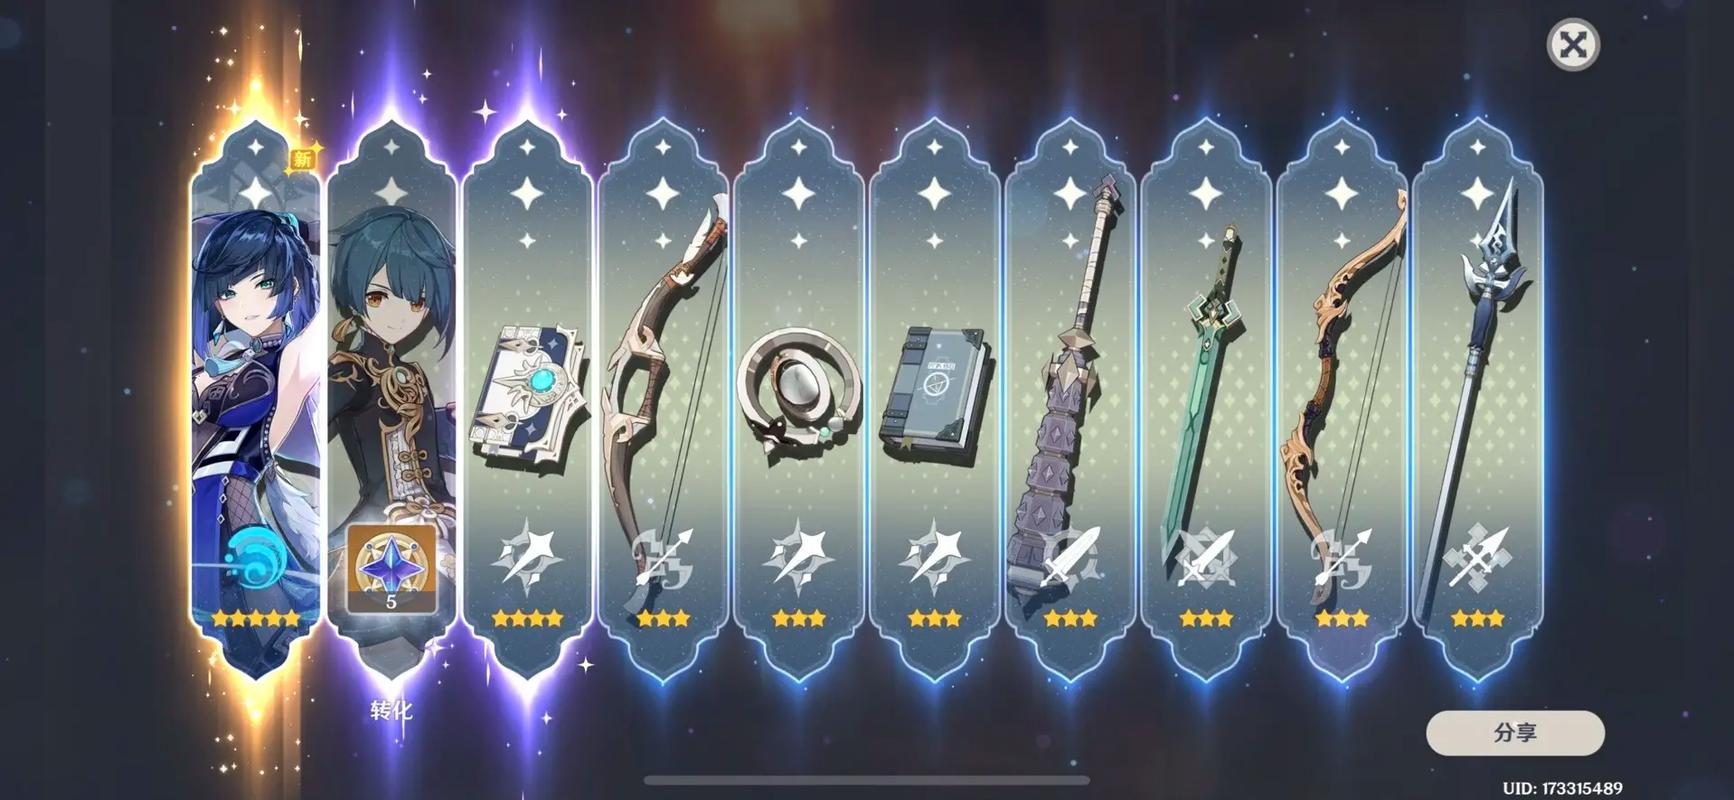夜兰: (191, 194, 315, 650)
